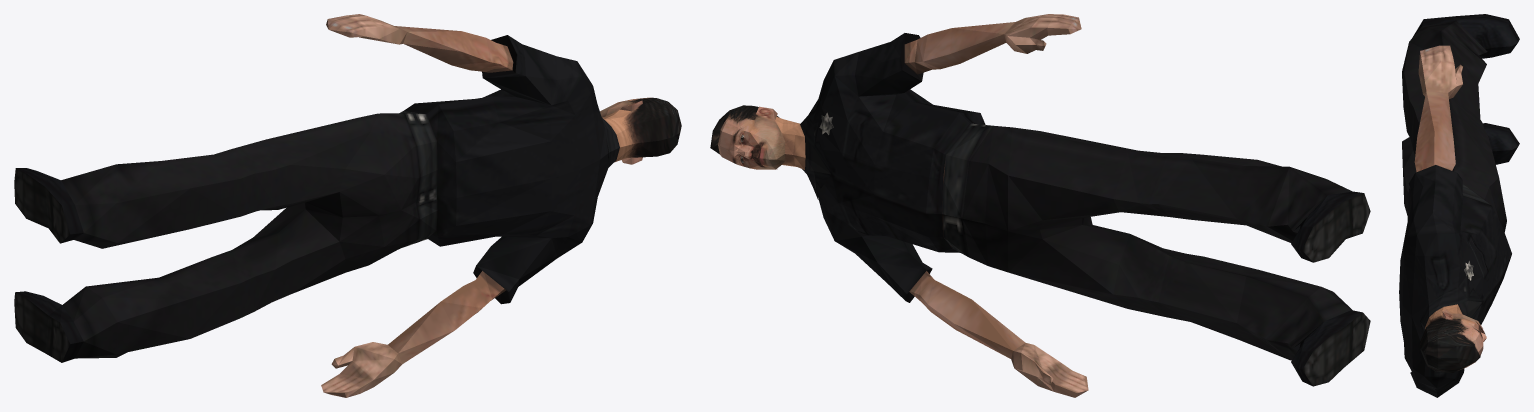
File: sfpdna.obj
3 renders of one model, left to right at view 1: azimuth 30°, elevation 25°; view 2: azimuth 150°, elevation 25°; view 3: azimuth 270°, elevation 25°, orthographic. The views are drawn at different scales.
Visible parts, largest first — view 1: noname_0; view 2: noname_0; view 3: noname_0.
Part boxes in pixels (x1=…): noname_0: x1=14, y1=14, x2=681, y2=397; noname_0: x1=710, y1=14, x2=1370, y2=397; noname_0: x1=1399, y1=14, x2=1519, y2=397.
Bounding box in the file's own units: 1.83 × 1.03 × 0.3476.
1 material, 1 textured.
